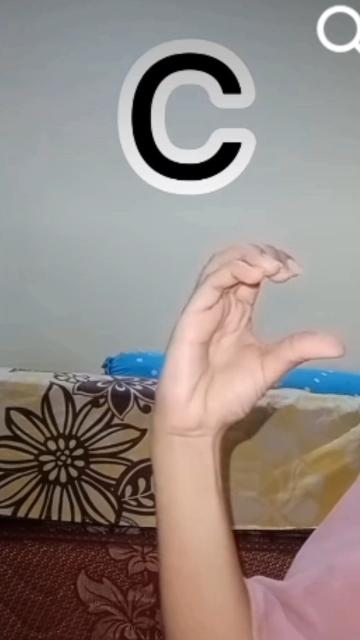C: (156, 238, 348, 438)
